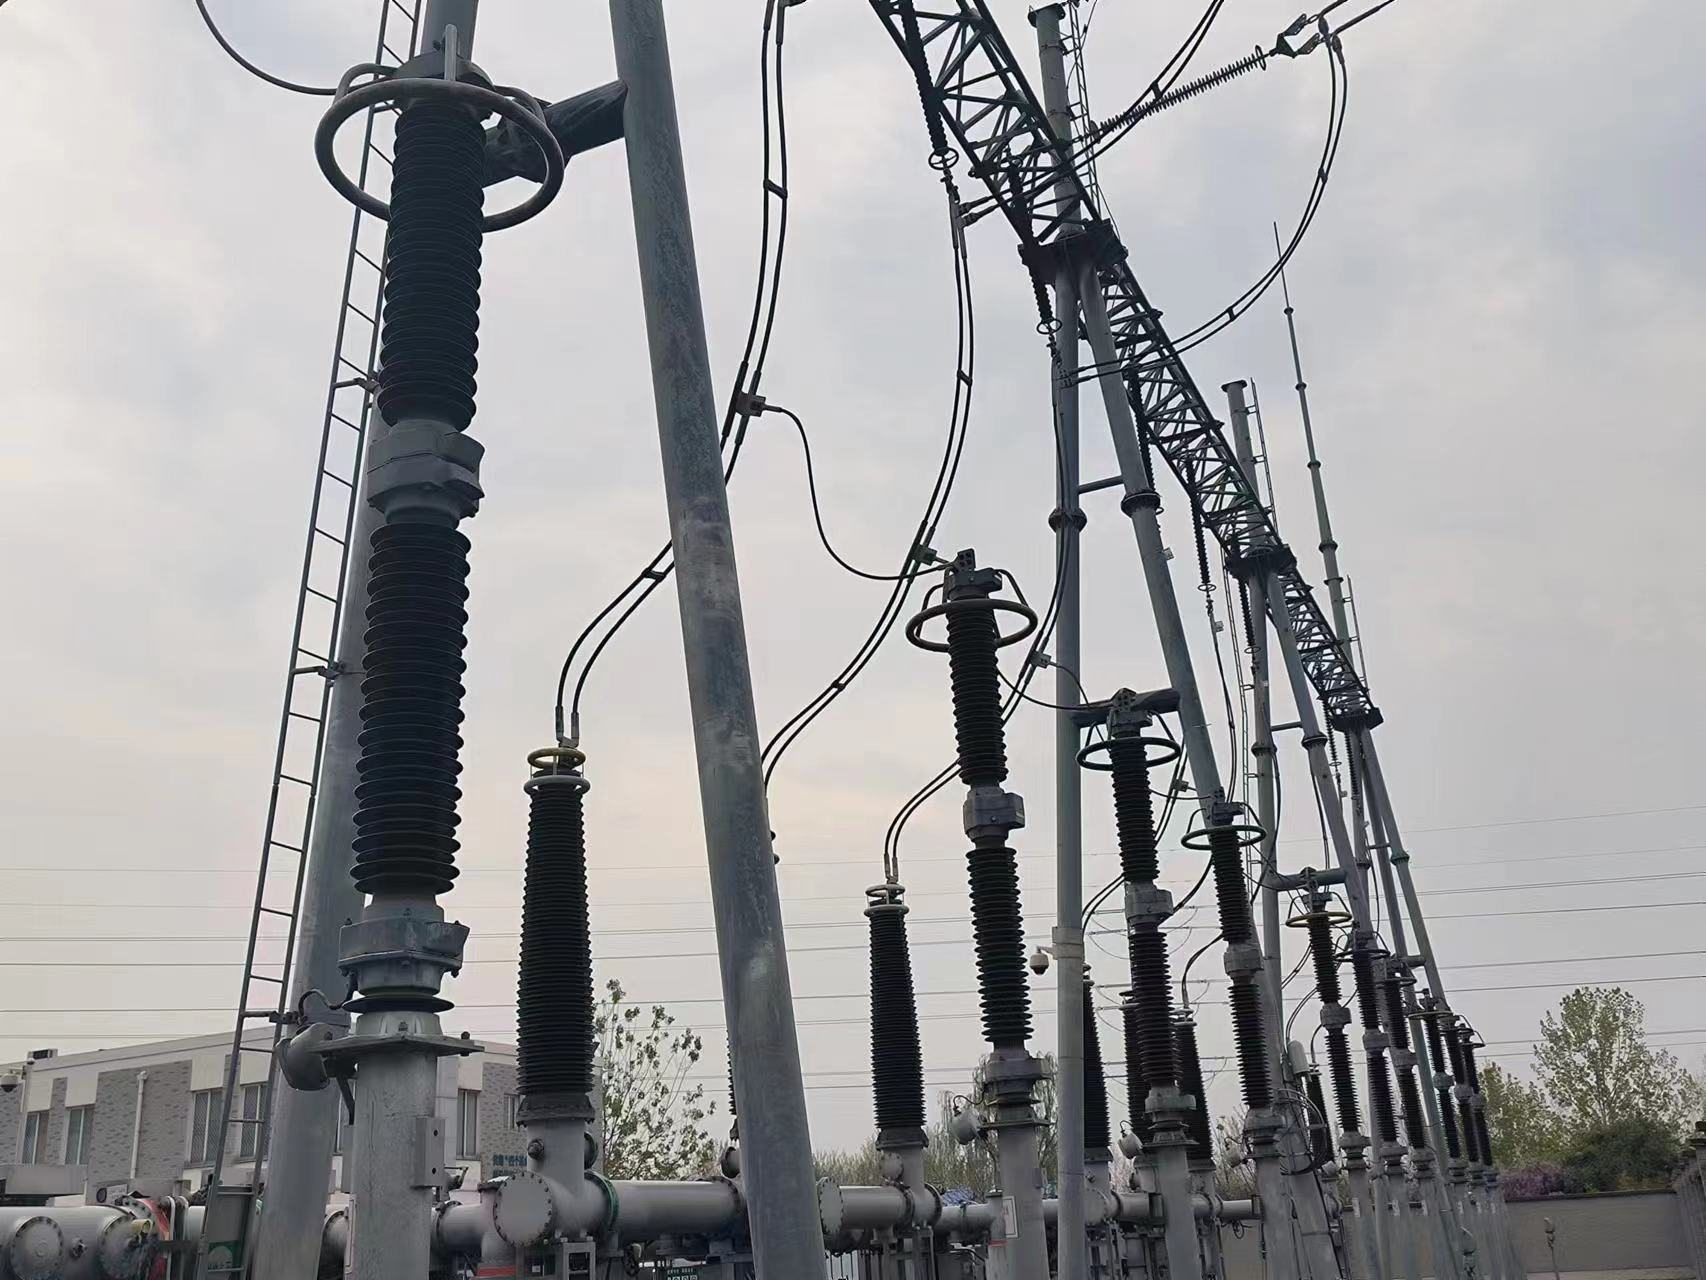Arrester: (304, 56, 567, 986), (903, 561, 1041, 1069), (1075, 695, 1183, 1158)
Voltage transformer: (511, 742, 601, 1125), (859, 886, 936, 1151)
